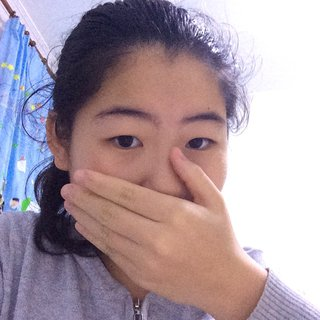face: (72, 51, 233, 266)
